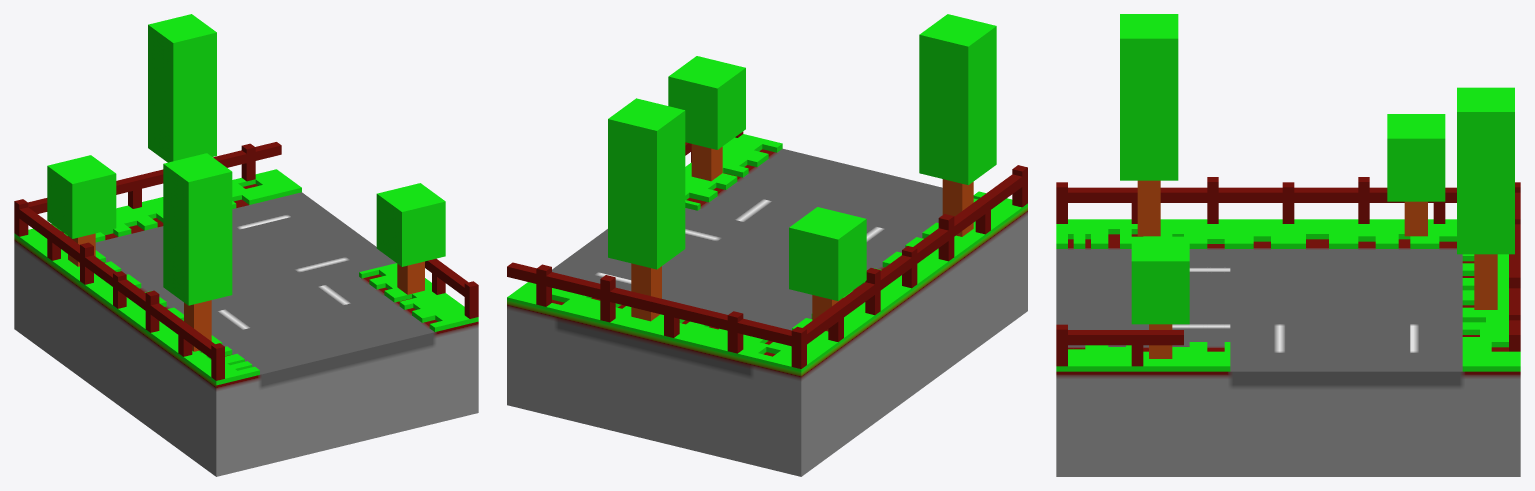
File: LastLeftPlane.fbx
3 views of the same model, side by side, from view 1: azimuth 30°, elevation 25°; view 2: azimuth 150°, elevation 25°; view 3: azimuth 270°, elevation 25° (orthographic). The views are drawn at different scales.
Parts seen in each view (by area): view 1: LastLeftPlane; view 2: LastLeftPlane; view 3: LastLeftPlane.
Boxes of the visible parts, x1,y1,x2,y2 form: LastLeftPlane: (14,14,478,476); LastLeftPlane: (507,14,1027,476); LastLeftPlane: (1056,14,1520,476).
Bounding box in the file's own units: 60 × 60 × 80.
1 material, 1 textured.
